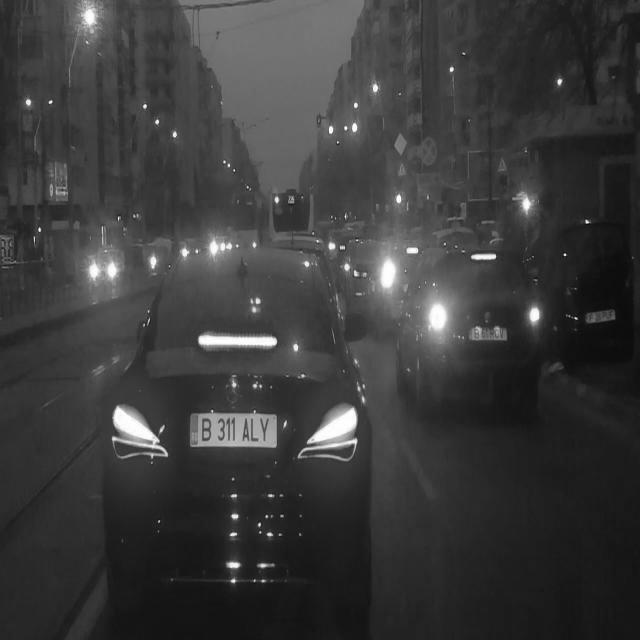licenseplate: (188, 409, 281, 451), (469, 326, 507, 342), (586, 309, 616, 323)
